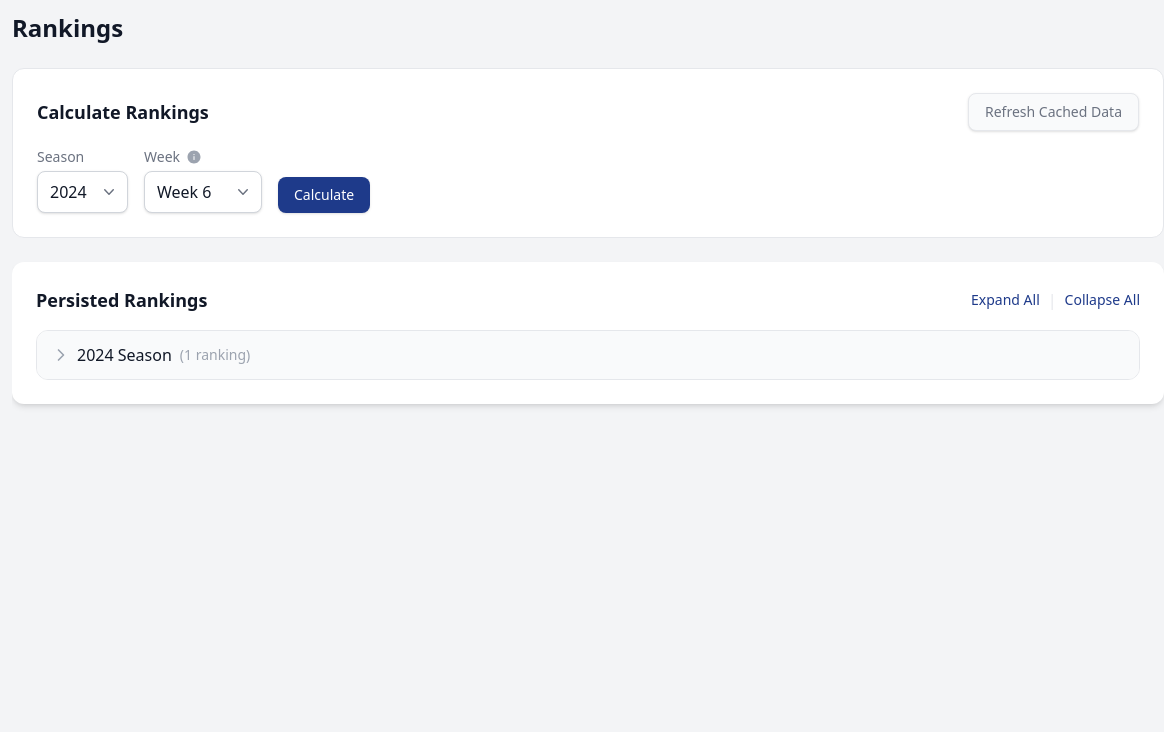
Test: RankingsSnapshotsPage › shows error when export fails
This screenshot has width=1164, height=732.
What coordinates should you click on to do the following:
click the text "2024 Season"
I would click on:
 (124, 355)
Its box is [77, 343, 172, 367].
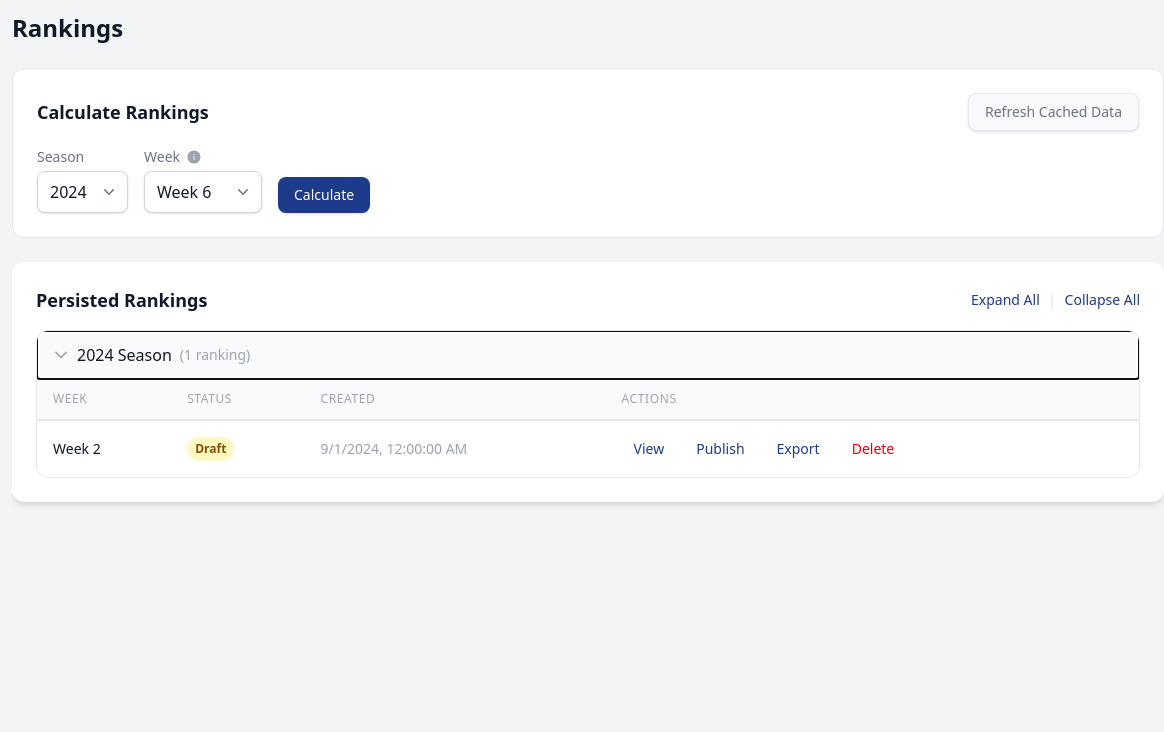
What coordinates should you click on to do the following:
click the button "Export"
I would click on:
 (798, 449)
Its box is [765, 433, 832, 465].
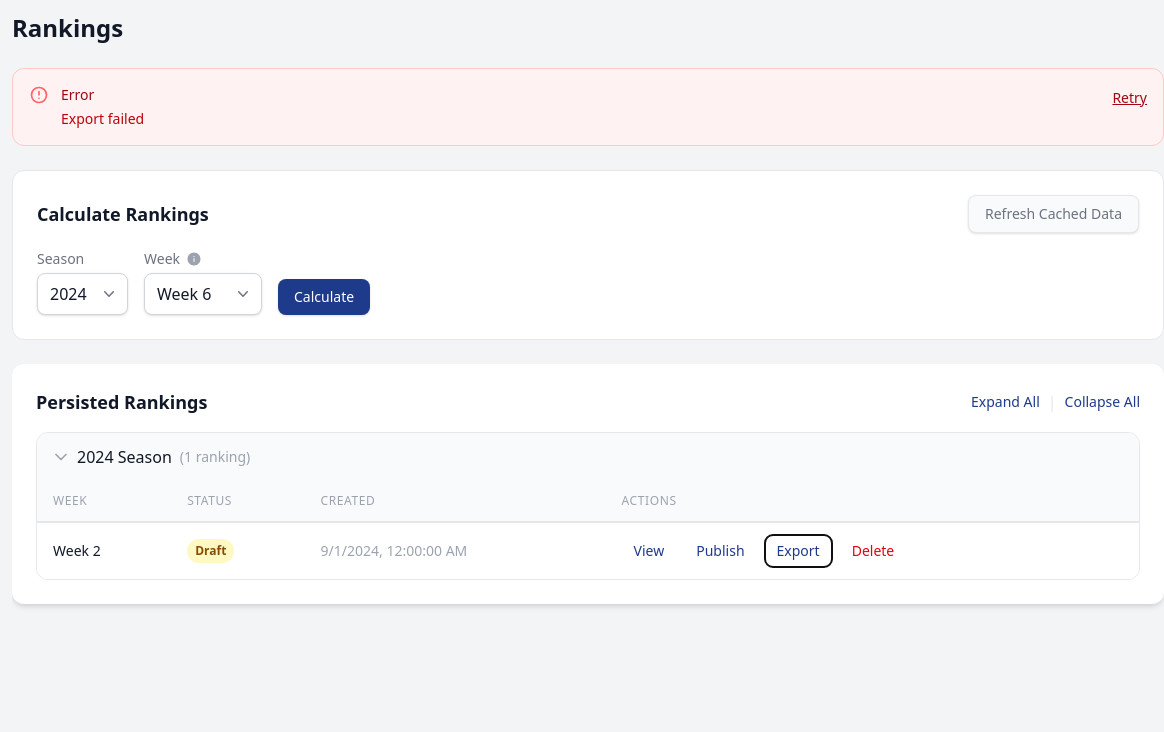
expect the text "Export failed" is shown: met, box [61, 109, 144, 128]
